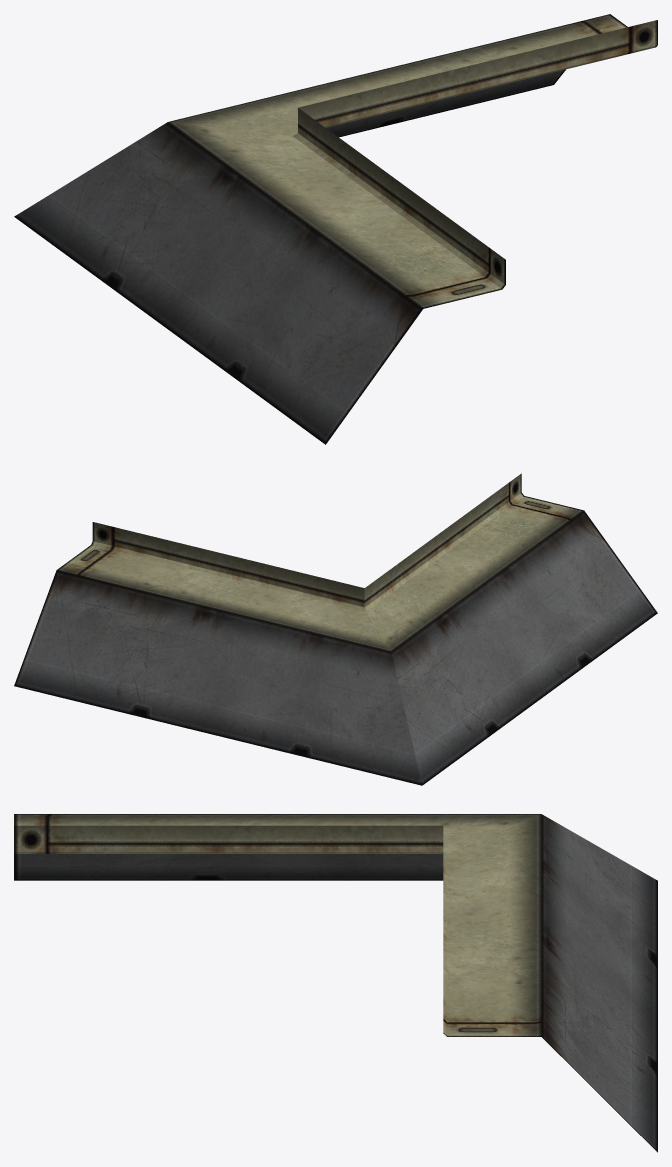
Rendered from living_area_roofedge_corner.dae.
3 renders of one model, top to bottom at view 1: azimuth 30°, elevation 25°; view 2: azimuth 150°, elevation 25°; view 3: azimuth 270°, elevation 25°, orthographic. The views are drawn at different scales.
Visible parts, largest first — view 1: polySurface15; view 2: polySurface15; view 3: polySurface15.
Part boxes in pixels (x1,y1,x2,y2): polySurface15: (14,14,657,444); polySurface15: (14,473,657,785); polySurface15: (14,814,657,1152).
Size of the model in its own units: 2 by 0.5 by 2.
